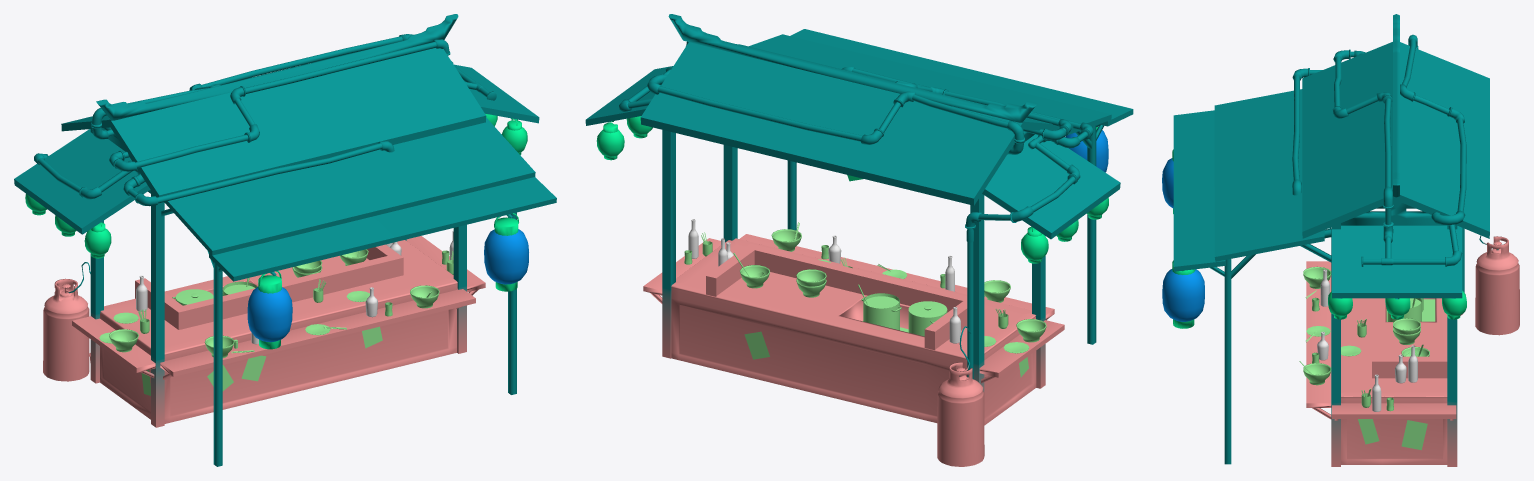
Rendered from SM_ENV_LKNVLD_Stall_G.gltf.
The picture shows the model from 3 angles, left to right: view 1: azimuth 30°, elevation 25°; view 2: azimuth 150°, elevation 25°; view 3: azimuth 270°, elevation 25°; orthographic projection. The views are drawn at different scales.
Visible parts, largest first — view 1: SM_ENV_LKNVLD_Stall_G; view 2: SM_ENV_LKNVLD_Stall_G; view 3: SM_ENV_LKNVLD_Stall_G.
Boxes of the visible parts, box(x1,y1,x2,y2) form: SM_ENV_LKNVLD_Stall_G: box(14, 14, 556, 466); SM_ENV_LKNVLD_Stall_G: box(585, 14, 1133, 466); SM_ENV_LKNVLD_Stall_G: box(1162, 14, 1519, 466).
Size of the model in its own units: 5.94 by 3.89 by 4.18.
